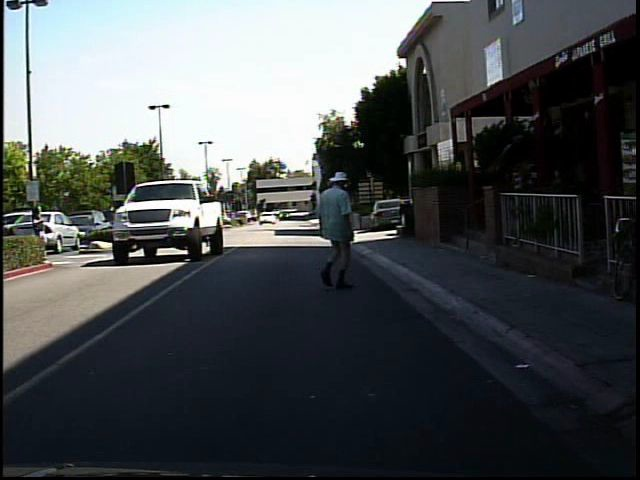person: (307, 166, 366, 292), (28, 201, 54, 261), (206, 204, 221, 229)
